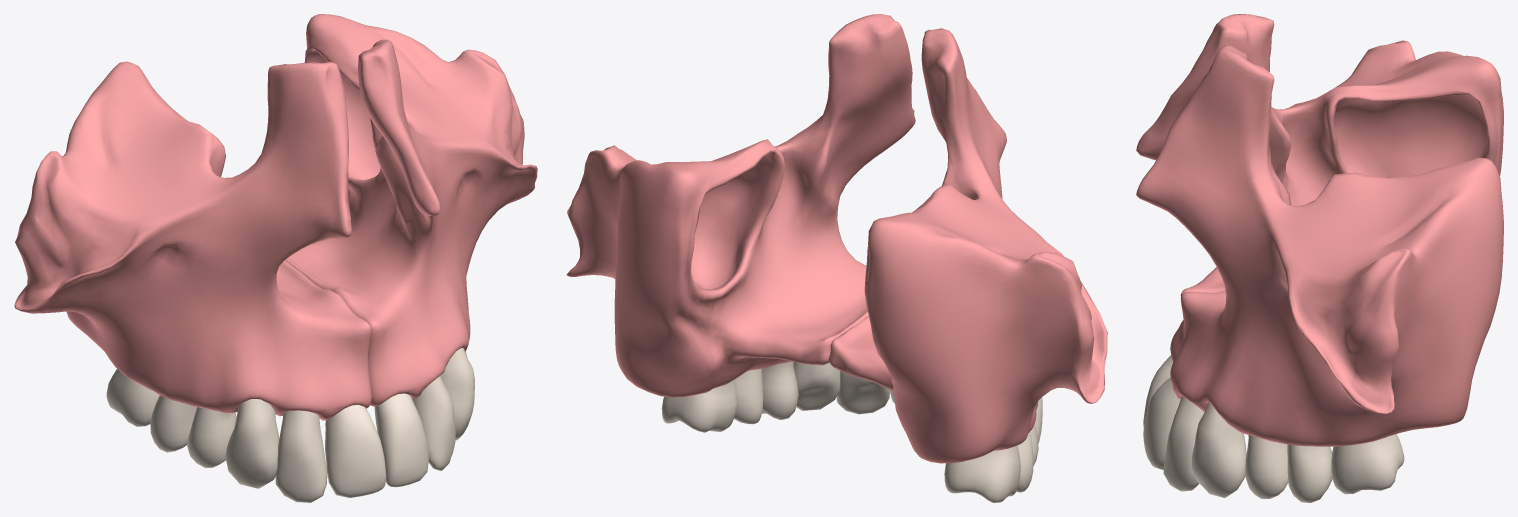
File: Maxilar_Izquierdo_Derecho.glb
The picture shows the model from 3 angles, left to right: view 1: azimuth 30°, elevation 25°; view 2: azimuth 150°, elevation 25°; view 3: azimuth 270°, elevation 25°; orthographic projection. The views are drawn at different scales.
Parts seen in each view (by area): view 1: Maxilar Derecho, Maxilar Izquierdo, Upper medial incisor.r, Upper lateral incisor.r, Upper medial incisor.r.001, Upper canine.r, Upper lateral incisor.r.001, Upper first premolar.r, Upper second premolar.r, Upper first molar tooth.r, Upper canine.r.001; view 2: Maxilar Izquierdo, Maxilar Derecho, Upper first molar tooth.r, Upper first molar tooth.r.001, Upper canine.r.001, Upper first premolar.r.001, Upper lateral incisor.r.001, Upper second premolar.r.001, Upper second premolar.r; view 3: Maxilar Izquierdo, Maxilar Derecho, Upper canine.r.001, Upper first molar tooth.r.001, Upper lateral incisor.r.001, Upper second premolar.r.001, Upper first premolar.r.001, Upper medial incisor.r.001, Upper medial incisor.r.
Part boxes in pixels (x1=…): Maxilar Derecho: x1=14, y1=61, x2=371, y2=420; Maxilar Izquierdo: x1=285, y1=14, x2=537, y2=406; Upper medial incisor.r: x1=325, y1=405, x2=386, y2=497; Upper lateral incisor.r: x1=275, y1=410, x2=327, y2=502; Upper medial incisor.r.001: x1=374, y1=393, x2=428, y2=487; Upper canine.r: x1=225, y1=399, x2=279, y2=488; Upper lateral incisor.r.001: x1=412, y1=375, x2=455, y2=470; Upper first premolar.r: x1=187, y1=407, x2=236, y2=468; Upper second premolar.r: x1=150, y1=395, x2=196, y2=452; Upper first molar tooth.r: x1=106, y1=369, x2=159, y2=426; Upper canine.r.001: x1=440, y1=348, x2=474, y2=440; Maxilar Izquierdo: x1=566, y1=14, x2=915, y2=397; Maxilar Derecho: x1=828, y1=28, x2=1107, y2=463; Upper first molar tooth.r: x1=944, y1=445, x2=1020, y2=502; Upper first molar tooth.r.001: x1=661, y1=379, x2=738, y2=432; Upper canine.r.001: x1=793, y1=362, x2=840, y2=410; Upper first premolar.r.001: x1=762, y1=361, x2=798, y2=419; Upper lateral incisor.r.001: x1=836, y1=371, x2=889, y2=414; Upper second premolar.r.001: x1=734, y1=369, x2=763, y2=424; Upper second premolar.r: x1=1016, y1=432, x2=1033, y2=492; Maxilar Izquierdo: x1=1136, y1=45, x2=1503, y2=446; Maxilar Derecho: x1=1136, y1=14, x2=1503, y2=362; Upper canine.r.001: x1=1191, y1=402, x2=1246, y2=497; Upper first molar tooth.r.001: x1=1331, y1=434, x2=1404, y2=494; Upper lateral incisor.r.001: x1=1163, y1=396, x2=1204, y2=491; Upper second premolar.r.001: x1=1287, y1=444, x2=1332, y2=502; Upper first premolar.r.001: x1=1245, y1=435, x2=1288, y2=498; Upper medial incisor.r.001: x1=1143, y1=378, x2=1180, y2=469; Upper medial incisor.r: x1=1143, y1=355, x2=1172, y2=428.
Bounding box in the file's own units: 0.0912 × 0.0703 × 0.0557.
